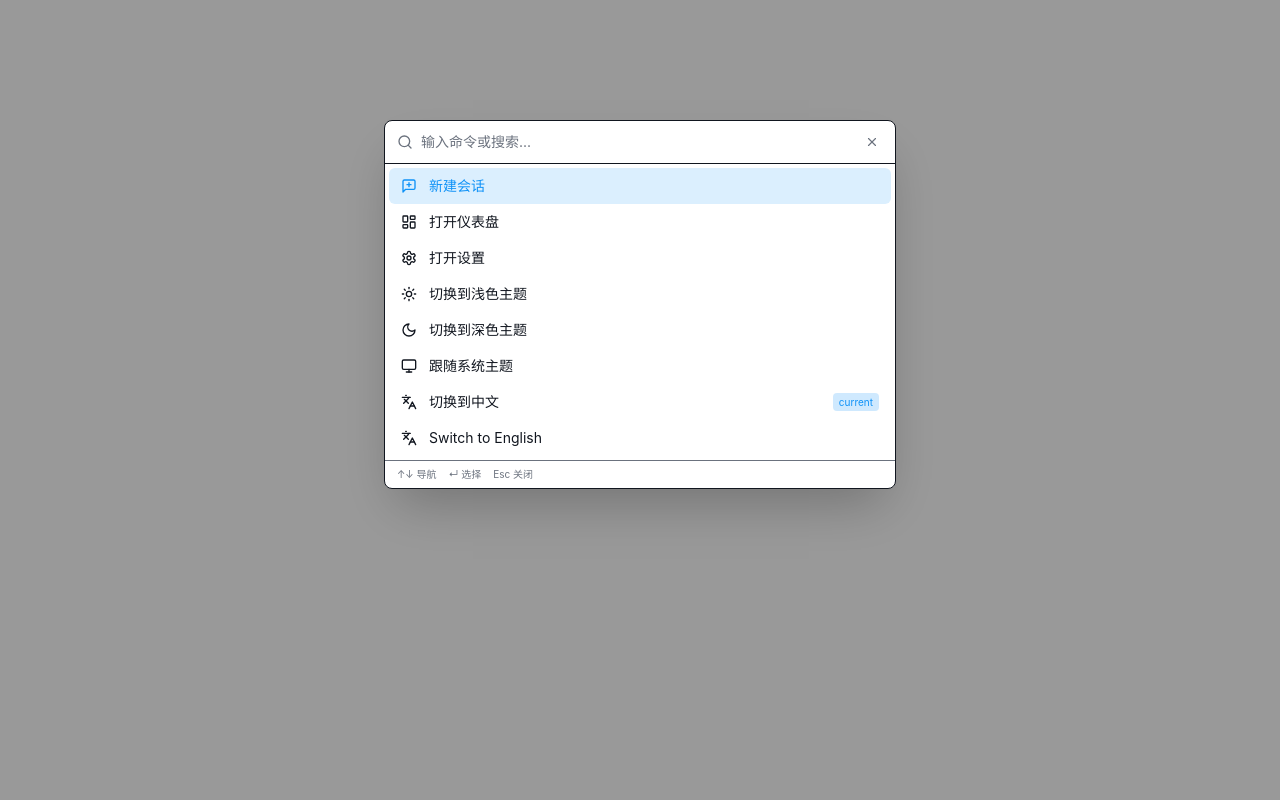
Test case: CommandPalette › 输入过滤命令
Type "dark" into the field at (637, 142), box [421,132,853,152]
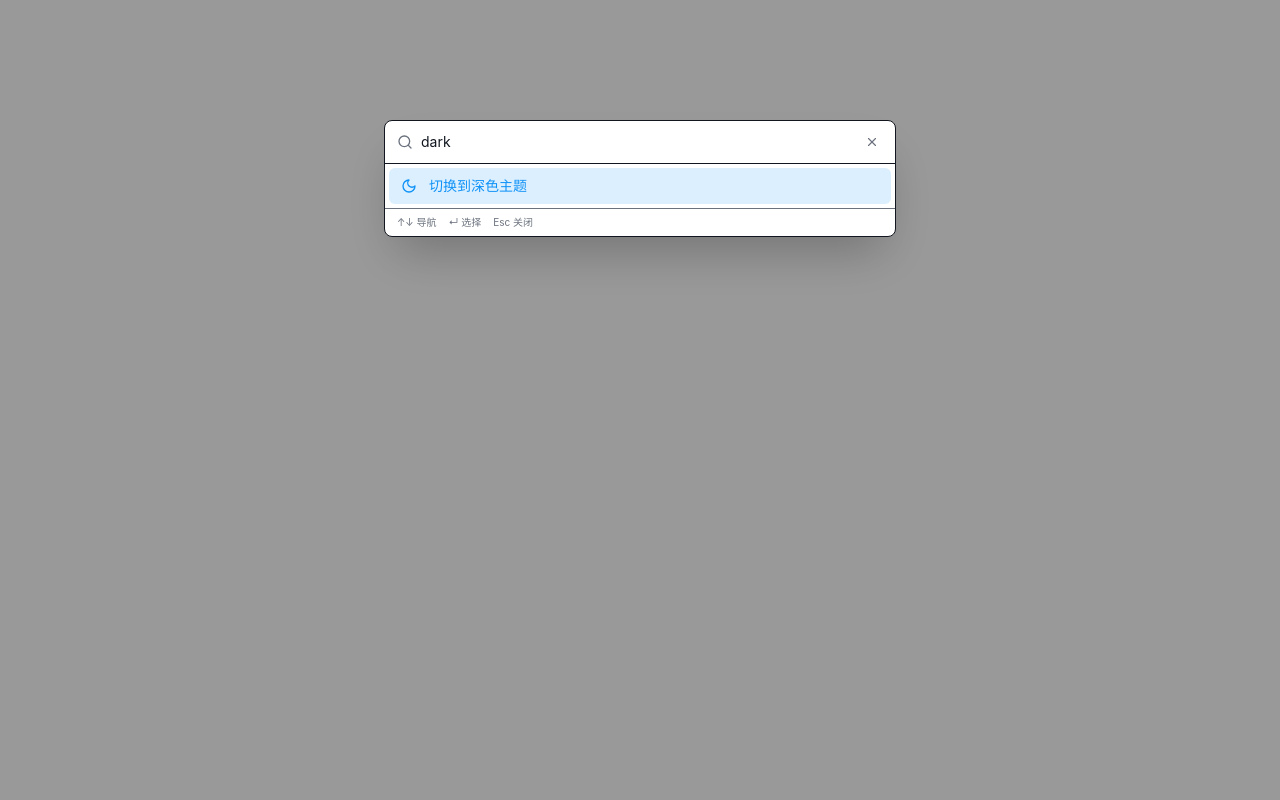
Expected: the text "切换到深色主题" is shown, [429,177,527,194]
Result: the button "新建会话" is gone
